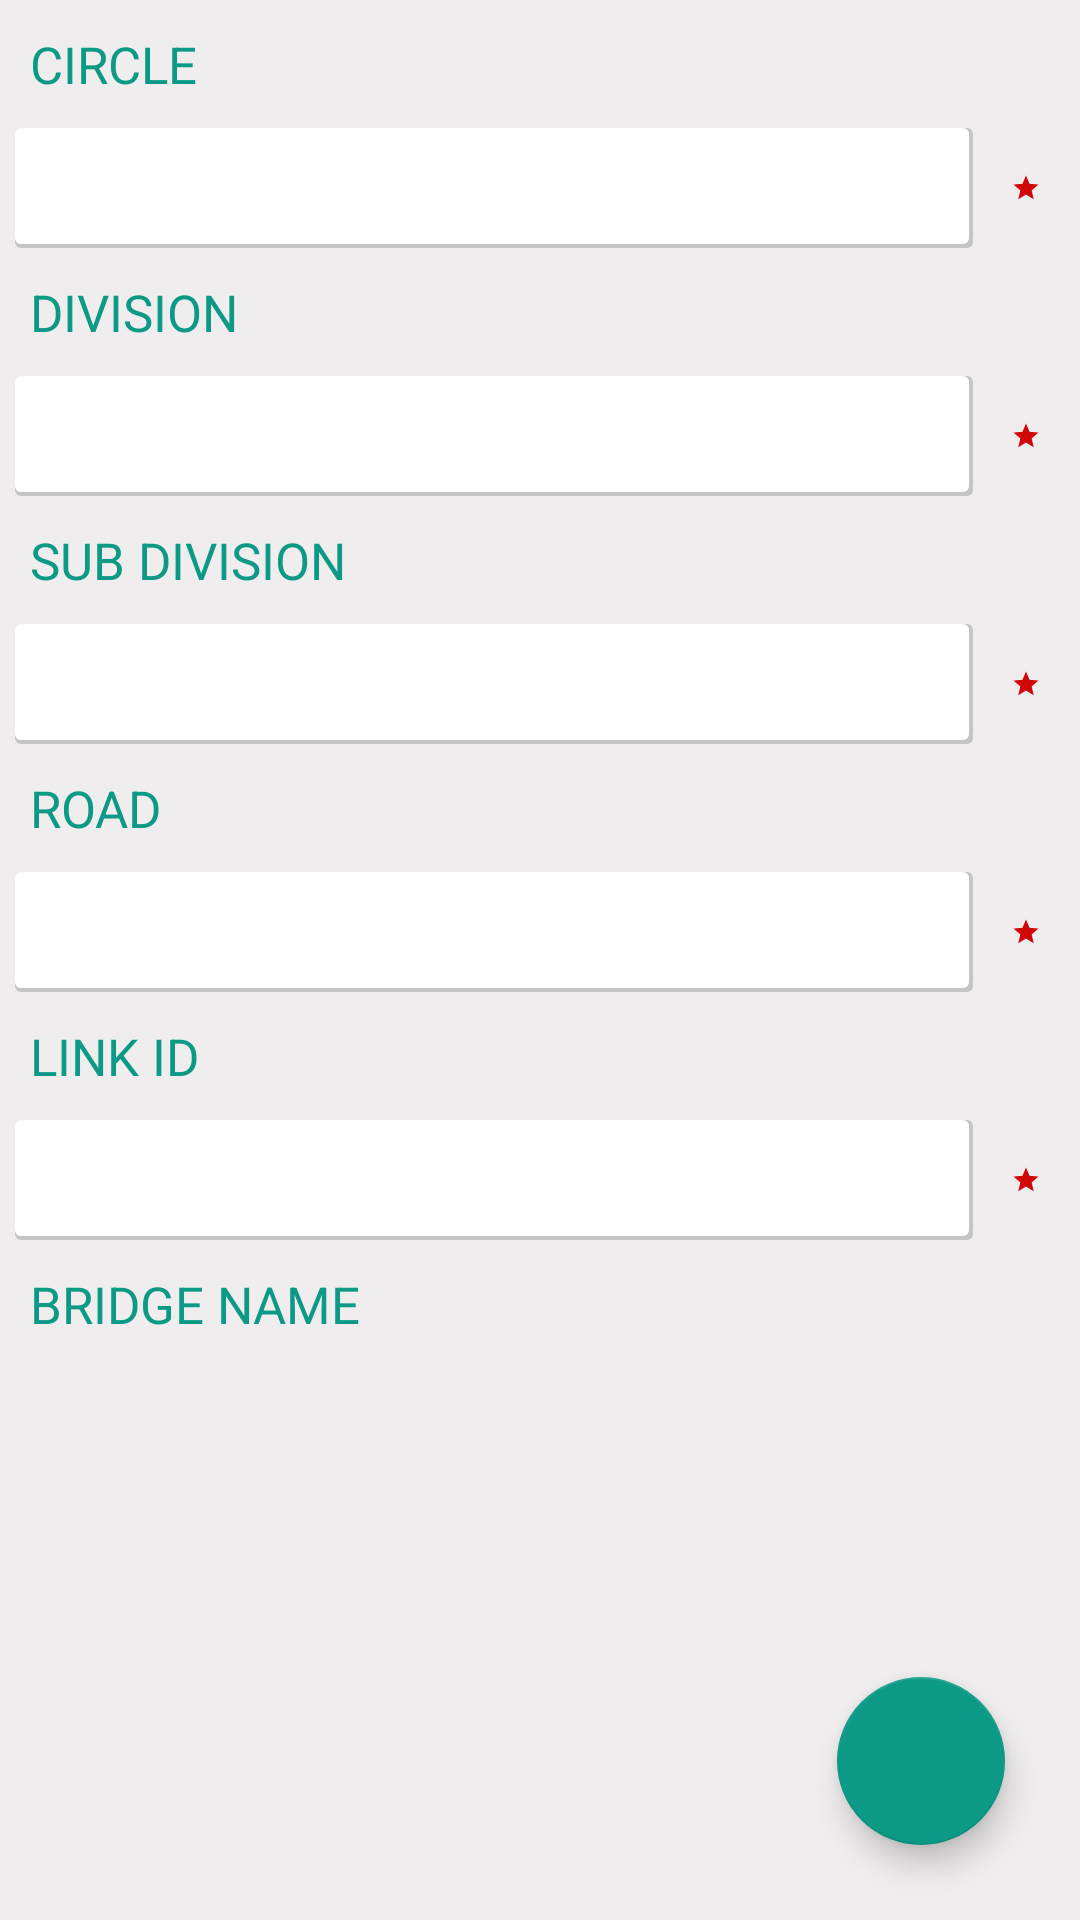

Named icons in this screenshot (1080 × 1920) and their bounding boxes, (left=x1, top=y1, right=x2, bottom=y2):
star: (left=1013, top=176, right=1039, bottom=199), (left=1013, top=424, right=1039, bottom=447), (left=1013, top=672, right=1039, bottom=695), (left=1013, top=920, right=1039, bottom=943), (left=1013, top=1168, right=1039, bottom=1191)
